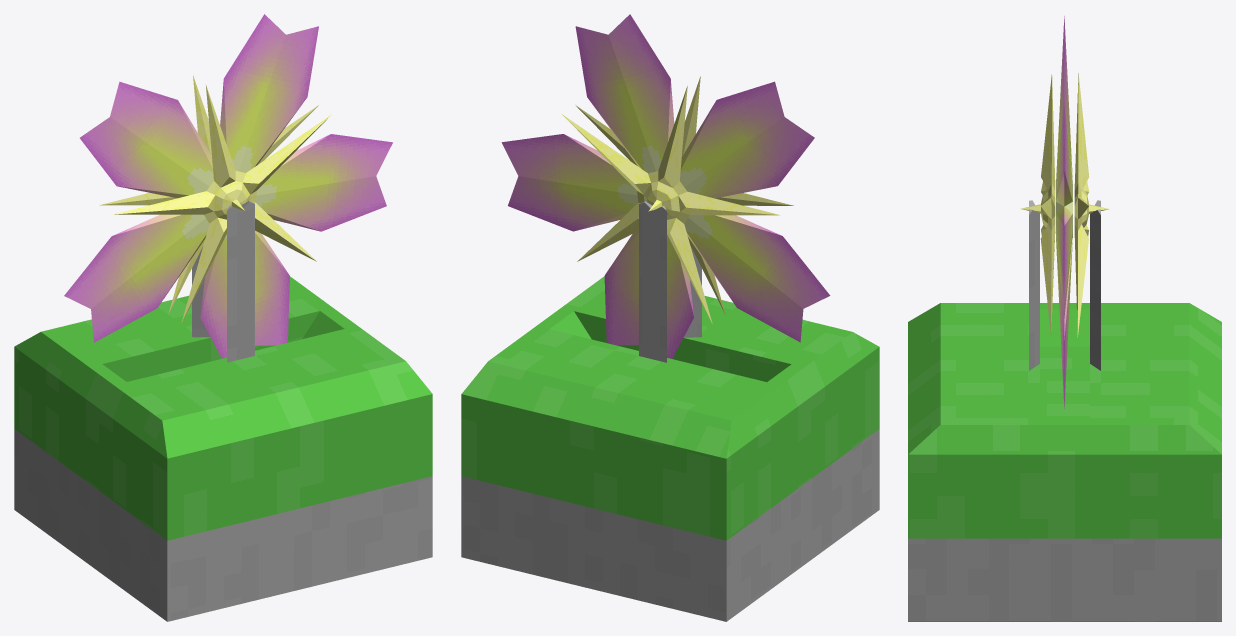
File: Chopper.fbx
3 views of the same model, side by side, from view 1: azimuth 30°, elevation 25°; view 2: azimuth 150°, elevation 25°; view 3: azimuth 270°, elevation 25° (orthographic). The views are drawn at different scales.
Parts seen in each view (by area): view 1: Cube, Circle, Circle.002; view 2: Cube, Circle, Circle.002; view 3: Cube, Circle.002, Circle.
Boxes of the visible parts, <box> form: Cube: <box>14,201,432,621</box>; Circle: <box>64,14,392,358</box>; Circle.002: <box>99,75,331,324</box>; Cube: <box>461,201,879,621</box>; Circle: <box>501,14,830,358</box>; Circle.002: <box>562,76,793,323</box>; Cube: <box>908,200,1221,621</box>; Circle.002: <box>1020,73,1109,337</box>; Circle: <box>1056,16,1072,408</box>.
Size of the model in its own units: 248 by 367 by 200.
